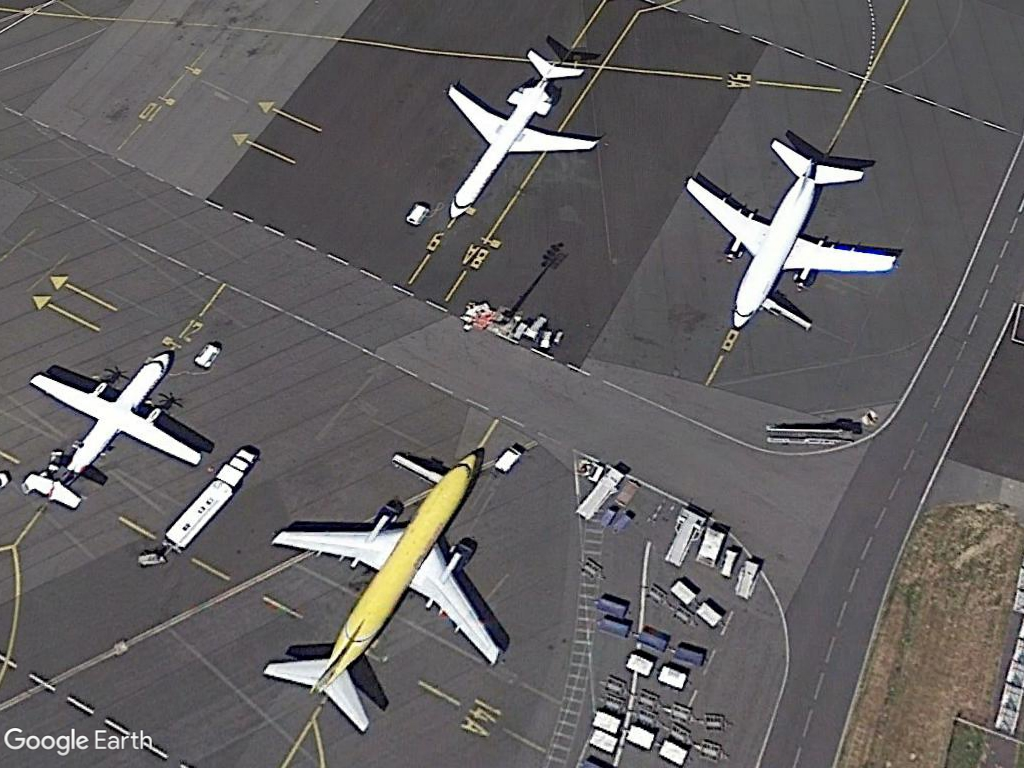airliner: (258, 450, 517, 736), (679, 126, 902, 333)
chartered: (443, 39, 603, 222)
propeller: (19, 347, 204, 512)
